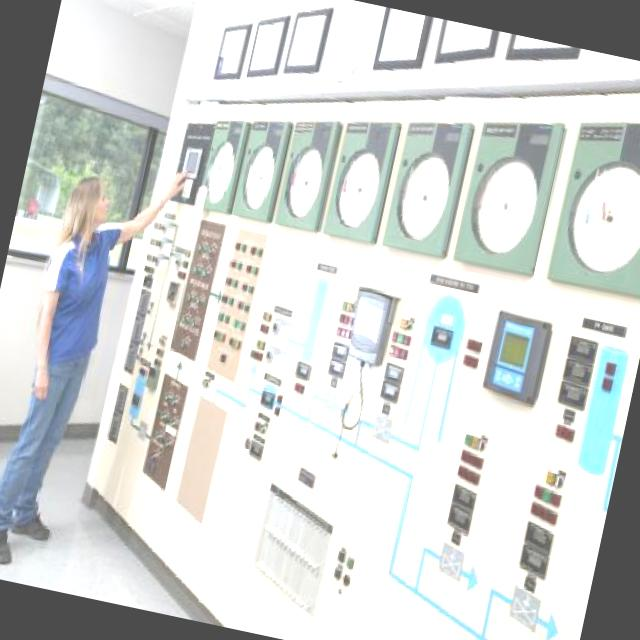Person: (0, 155, 156, 564)
